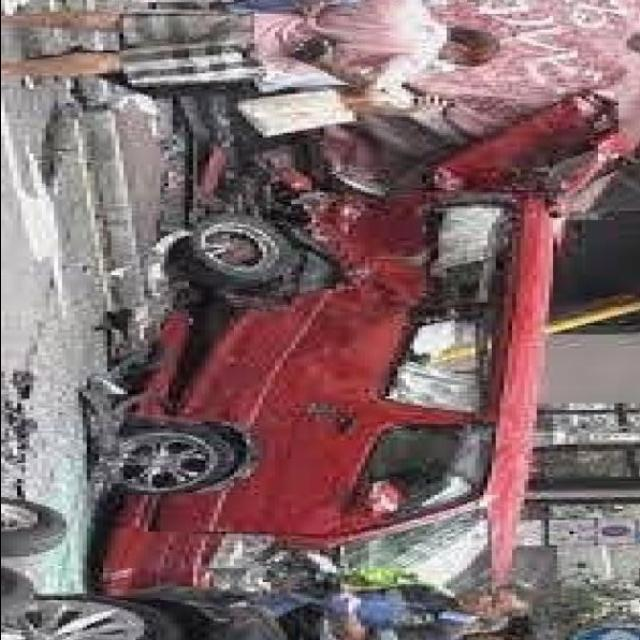accident: (76, 100, 622, 640)
